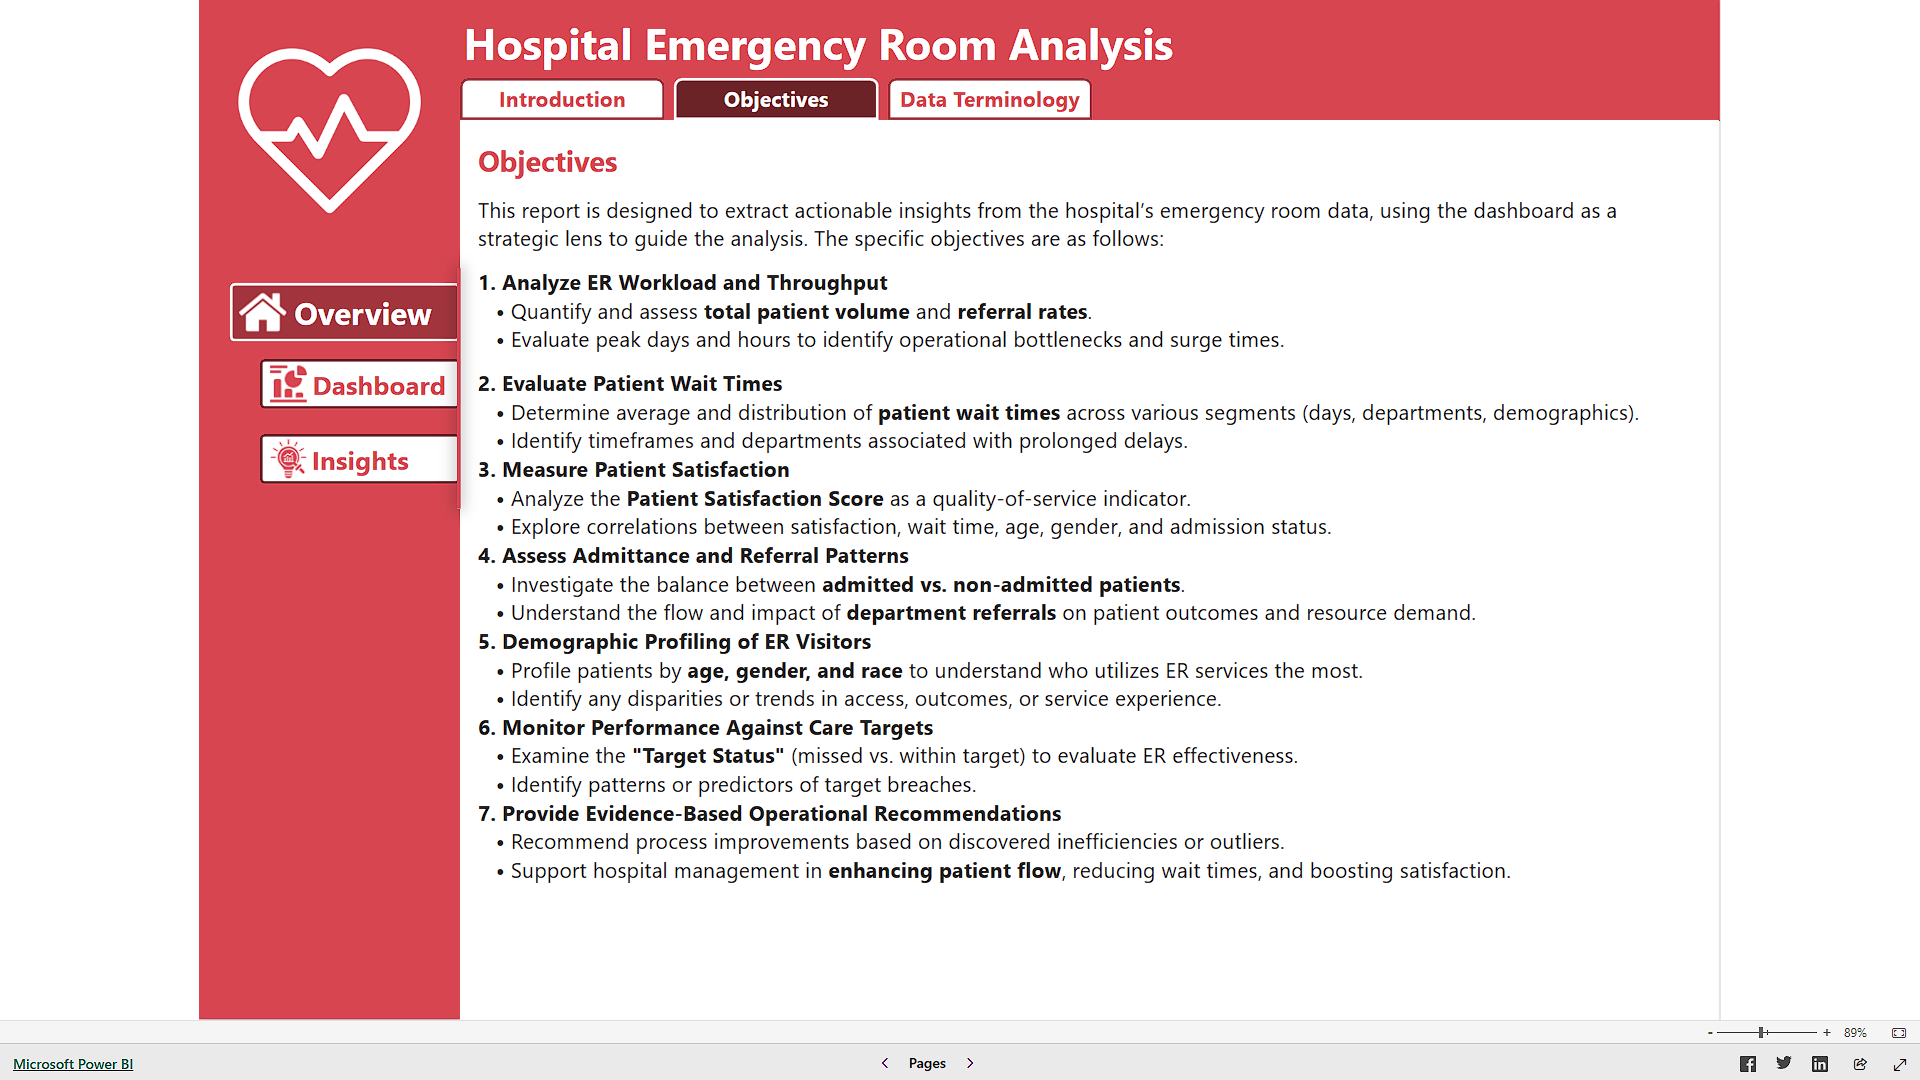

This screenshot's page, from the dashboard's own definition file:
{"tool":"powerbi","page":{"name":"Objectives","canvas":[1700,1140],"ordinal":2},"visuals":[{"type":"shape","box":[0,0,292.2,1139.5],"z":0},{"type":"textbox","title":"Hospital Emergency Room Analysis","box":[290.8,14.7,938.4,91],"z":0,"group":"g1"},{"type":"actionButton","box":[34.3,316.7,257.4,65.4],"z":0,"group":"g2"},{"type":"shape","box":[292,0,1408,135],"z":1000},{"type":"actionButton","box":[67.7,401.6,224,55.7],"z":1000,"group":"g2"},{"type":"image","box":[0,38.6,291.4,214.3],"z":2000},{"type":"actionButton","box":[67.7,485.2,224,55.7],"z":2000,"group":"g2"},{"type":"shape","box":[291.4,134.3,1407.1,1005.7],"z":3000},{"type":"shape","box":[287.5,300,4.2,268.5],"z":3000,"group":"g2"},{"type":"pageNavigator","box":[292.2,87.7,709.6,47.3],"z":4000},{"type":"textbox","box":[292.2,135,1405.2,1004.5],"z":5000},{"type":"group","id":"g1","title":"Group 1","box":[290.8,14.7,938.4,91],"z":6000},{"type":"group","id":"g2","title":"Group 2","box":[34.3,300,257.4,268.5],"z":7000}]}

Visuals, with their boxes on the page's 1700x1140 design canvas (x1, y1, x2, y2). These are canvas units, not pixel positions in the 1920x1080 screenshot, which may show the page scaled, cropped or inside an application window:
shape: [left=0, top=0, right=292, bottom=1140]
"Hospital Emergency Room Analysis" textbox: [left=291, top=15, right=1229, bottom=106]
actionButton: [left=34, top=317, right=292, bottom=382]
shape: [left=292, top=0, right=1700, bottom=135]
actionButton: [left=68, top=402, right=292, bottom=457]
image: [left=0, top=39, right=291, bottom=253]
actionButton: [left=68, top=485, right=292, bottom=541]
shape: [left=291, top=134, right=1698, bottom=1140]
shape: [left=288, top=300, right=292, bottom=568]
pageNavigator: [left=292, top=88, right=1002, bottom=135]
textbox: [left=292, top=135, right=1697, bottom=1140]
"Group 1" group: [left=291, top=15, right=1229, bottom=106]
"Group 2" group: [left=34, top=300, right=292, bottom=568]
